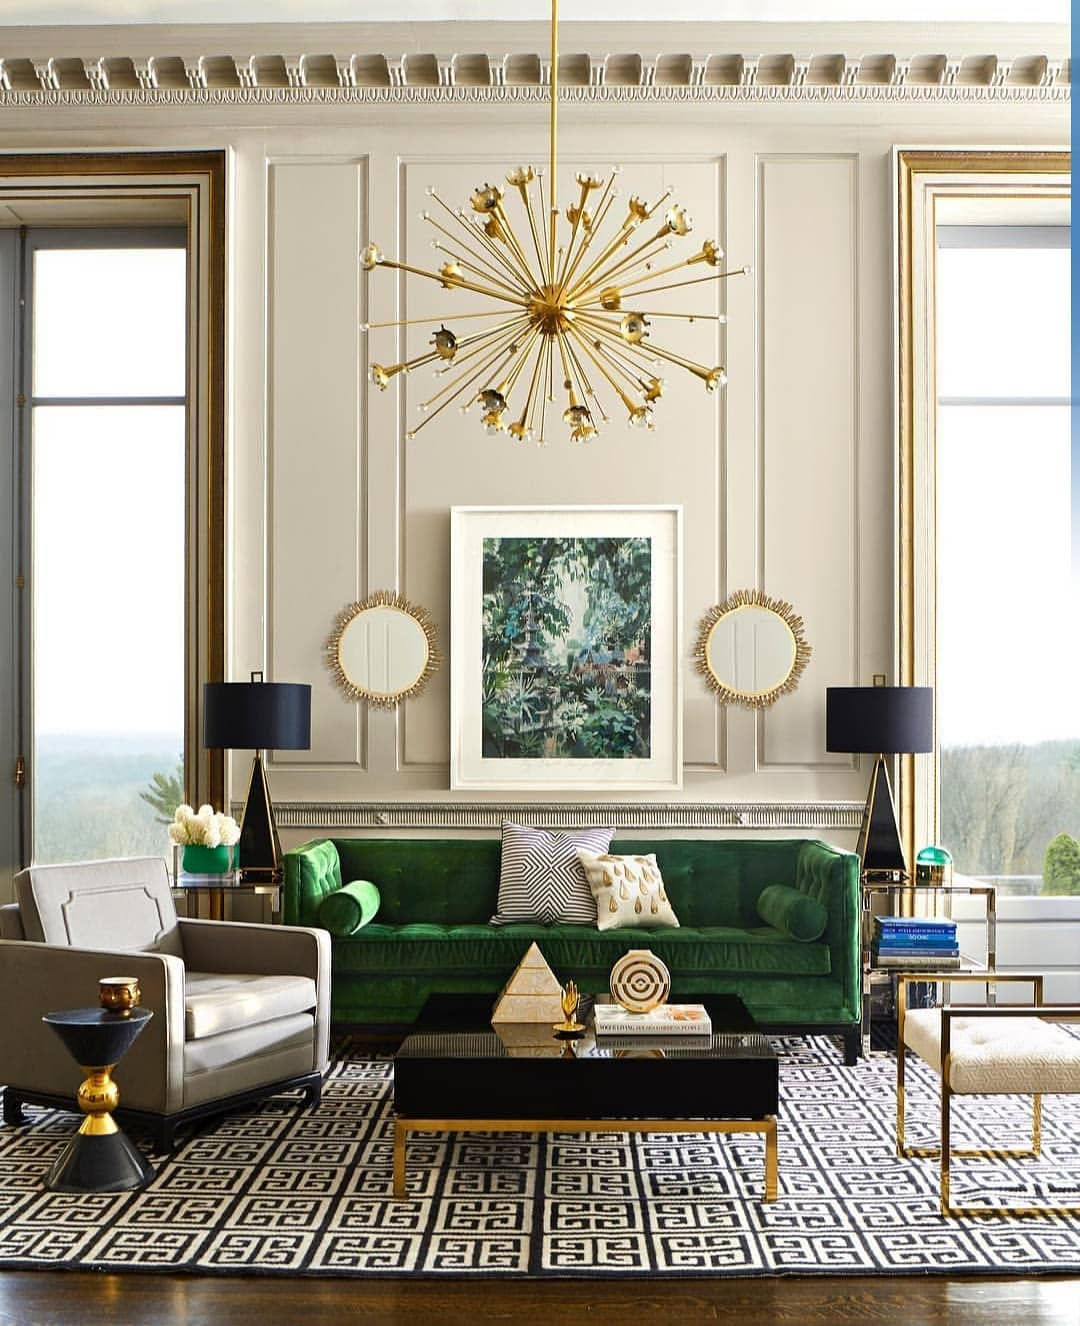bantal: (494, 814, 602, 936), (586, 850, 680, 930)
buku: (874, 914, 963, 976), (591, 1001, 714, 1042)
gelas: (96, 976, 144, 1018)
kursi: (6, 854, 343, 1115), (879, 969, 1080, 1224)
lampu: (812, 674, 937, 865), (185, 674, 308, 828)
lukisan: (443, 497, 688, 800)
meja: (396, 1022, 794, 1203)
sova: (296, 836, 879, 1048)
tanaman: (170, 806, 238, 876)
